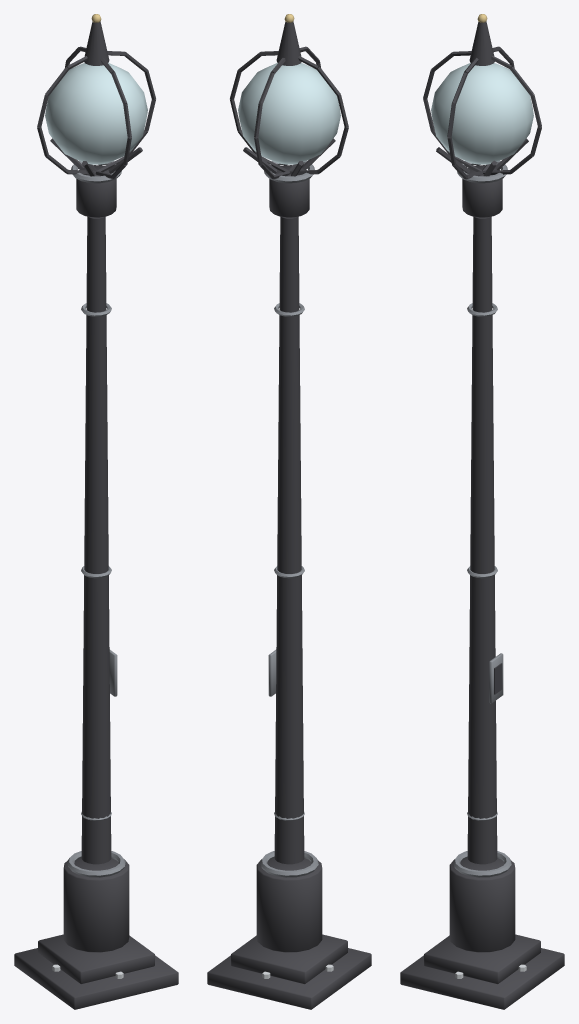
File: LightPost_Globe.fbx
The picture shows the model from 3 angles, left to right: view 1: azimuth 30°, elevation 25°; view 2: azimuth 150°, elevation 25°; view 3: azimuth 330°, elevation 25°; orthographic projection.
Parts seen in each view (by area): view 1: LOD0; view 2: LOD0; view 3: LOD0.
Boxes of the visible parts, <box> form: LOD0: <box>14,14,178,1009</box>; LOD0: <box>207,14,371,1009</box>; LOD0: <box>400,14,564,1009</box>.
Size of what is drawn, in the model's own units: 47.4 by 368 by 47.47.
